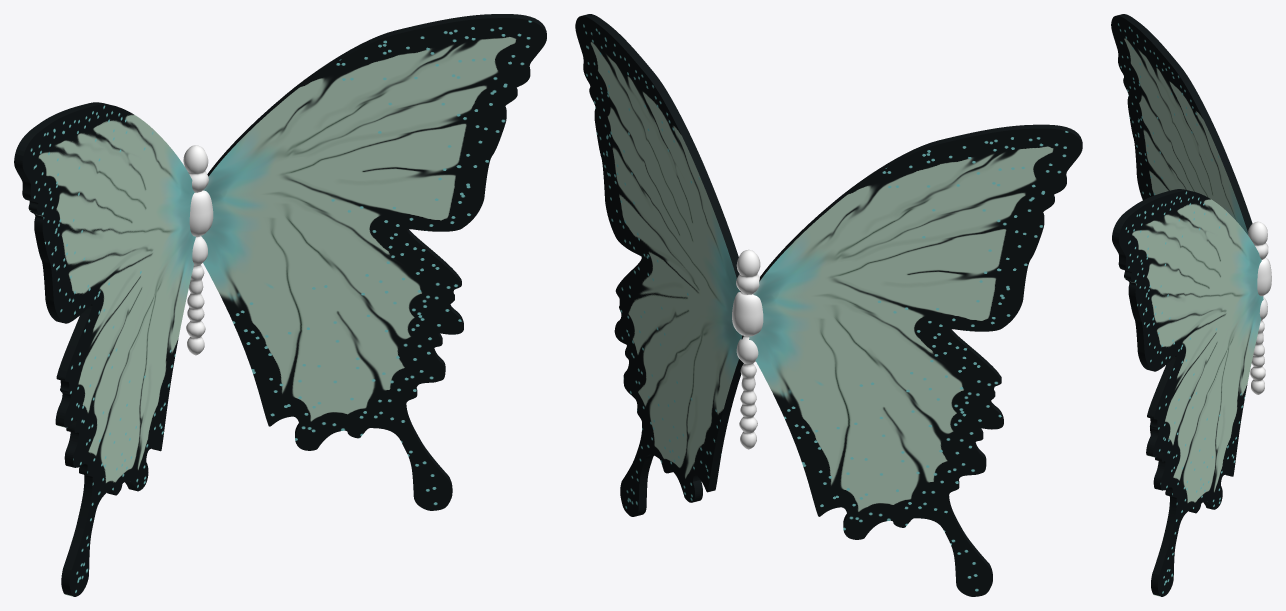
File: Mother_Of_Pearl.gltf
3 renders of one model, left to right at view 1: azimuth 30°, elevation 25°; view 2: azimuth 150°, elevation 25°; view 3: azimuth 270°, elevation 25°, orthographic. The views are drawn at different scales.
Visible parts, largest first — view 1: butterfly wing right, butterfly wing left, butterfly body; view 2: butterfly wing left, butterfly wing right, butterfly body; view 3: butterfly wing right, butterfly wing left, butterfly body.
Part boxes in pixels (bbox=[...]): butterfly wing right: bbox=[201, 14, 546, 510]; butterfly wing left: bbox=[14, 102, 195, 596]; butterfly body: bbox=[183, 145, 213, 355]; butterfly wing left: bbox=[749, 124, 1082, 596]; butterfly wing right: bbox=[575, 14, 743, 516]; butterfly body: bbox=[732, 249, 763, 449]; butterfly wing right: bbox=[1112, 189, 1263, 596]; butterfly wing left: bbox=[1111, 14, 1252, 434]; butterfly body: bbox=[1248, 221, 1271, 394].
Bounding box in the file's own units: 2.32 × 2.06 × 0.7357.
2 materials, 1 textured.
